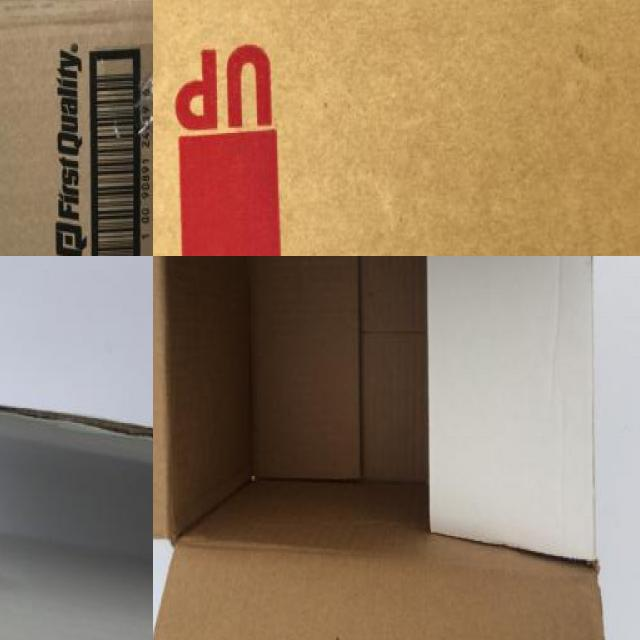class_name: (153, 256, 637, 640), (153, 0, 640, 256), (0, 378, 153, 640), (0, 0, 153, 256)
